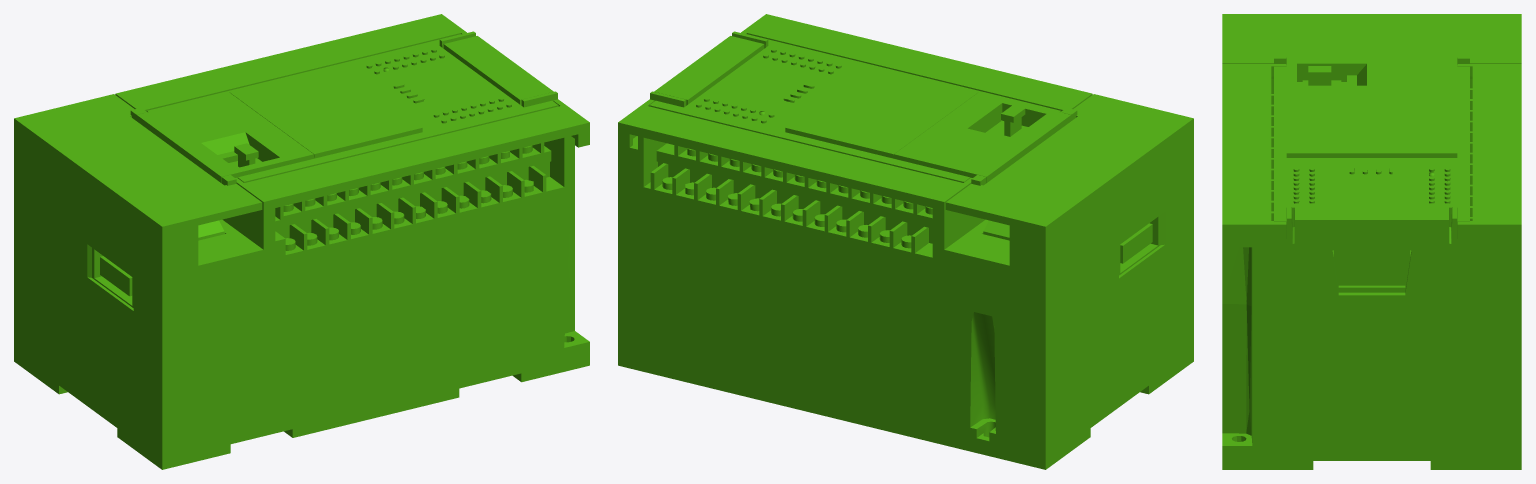
File: Mitsubishi FX5U-32MR_DS.fbx
3 views of the same model, side by side, from view 1: azimuth 30°, elevation 25°; view 2: azimuth 150°, elevation 25°; view 3: azimuth 270°, elevation 25° (orthographic).
Visible parts, largest first — view 1: Mitsubishi FX5U-32MR_DS; view 2: Mitsubishi FX5U-32MR_DS; view 3: Mitsubishi FX5U-32MR_DS.
Boxes of the visible parts, x1,y1,x2,y2 form: Mitsubishi FX5U-32MR_DS: [14, 14, 589, 469]; Mitsubishi FX5U-32MR_DS: [618, 14, 1193, 469]; Mitsubishi FX5U-32MR_DS: [1222, 14, 1521, 469].
Size of the model in its own units: 150 by 84.9 by 90.
